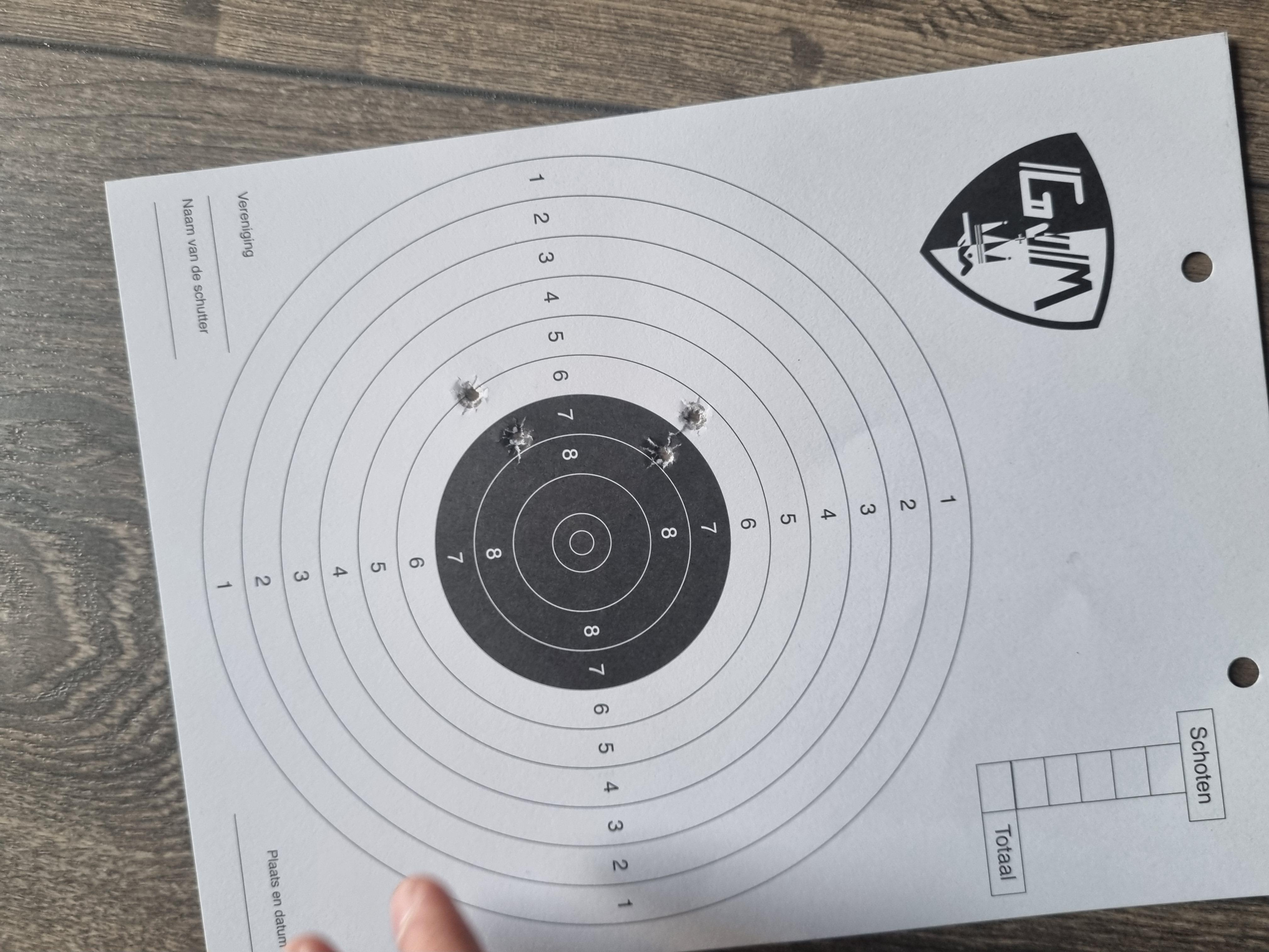hole: (715, 338, 770, 366), (653, 375, 711, 400), (644, 482, 692, 507), (690, 508, 743, 530)
